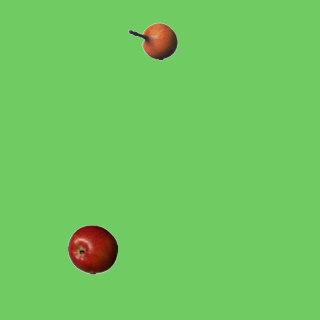Apple Braeburn: (67, 224, 117, 274)
Granadilla: (127, 16, 177, 66)
